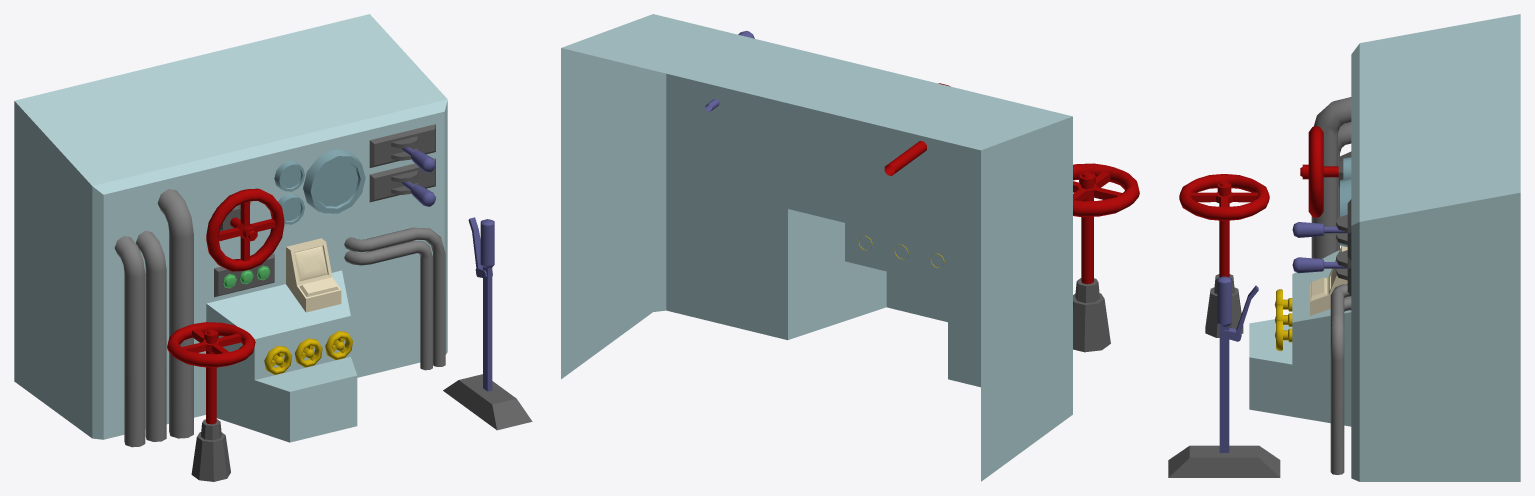
Rendered from GJ_Main_Console.fbx.
3 renders of one model, left to right at view 1: azimuth 30°, elevation 25°; view 2: azimuth 150°, elevation 25°; view 3: azimuth 270°, elevation 25°, orthographic. The views are drawn at different scales.
Visible parts, largest first — view 1: Console, Pipes, Control_Bases, Valve_Handle2, Dial_1, Computer, Valve_Handle1, Lever_Handle, Valve_Rod1, Dial_2, Small_Valve_2, Small_Valve_3 (+2 smaller); view 2: Console, Valve_Handle1, Control_Bases, Valve_Rod1; view 3: Console, Pipes, Control_Bases, Valve_Handle1, Lever_Handle, Valve_Handle2, Computer, Valve_Rod1, Switch_Lever_1, Switch_Lever_2, Dial_1.
Boxes of the visible parts, left/top/right/bottom form: Console: left=14, top=14, right=447, bottom=442; Pipes: left=114, top=189, right=445, bottom=447; Control_Bases: left=191, top=124, right=532, bottom=481; Valve_Handle2: left=206, top=188, right=284, bottom=271; Dial_1: left=303, top=150, right=365, bottom=213; Computer: left=286, top=238, right=341, bottom=312; Valve_Handle1: left=167, top=322, right=255, bottom=367; Lever_Handle: left=468, top=217, right=494, bottom=391; Valve_Rod1: left=204, top=329, right=218, bottom=424; Dial_2: left=274, top=160, right=304, bottom=191; Small_Valve_2: left=294, top=338, right=322, bottom=367; Small_Valve_3: left=264, top=346, right=291, bottom=374; Console: left=561, top=14, right=1072, bottom=481; Valve_Handle1: left=1073, top=163, right=1139, bottom=217; Control_Bases: left=1073, top=278, right=1110, bottom=352; Valve_Rod1: left=1079, top=172, right=1095, bottom=284; Console: left=1249, top=14, right=1520, bottom=481; Pipes: left=1311, top=97, right=1351, bottom=474; Control_Bases: left=1168, top=151, right=1351, bottom=477; Valve_Handle1: left=1179, top=174, right=1269, bottom=220; Lever_Handle: left=1217, top=276, right=1258, bottom=452; Valve_Handle2: left=1308, top=126, right=1323, bottom=217; Computer: left=1310, top=246, right=1350, bottom=315; Valve_Rod1: left=1217, top=181, right=1231, bottom=277; Switch_Lever_1: left=1292, top=222, right=1347, bottom=237; Switch_Lever_2: left=1292, top=257, right=1347, bottom=273; Dial_1: left=1340, top=178, right=1351, bottom=246.
Bounding box in the file's own units: 1000 × 755 × 832.
